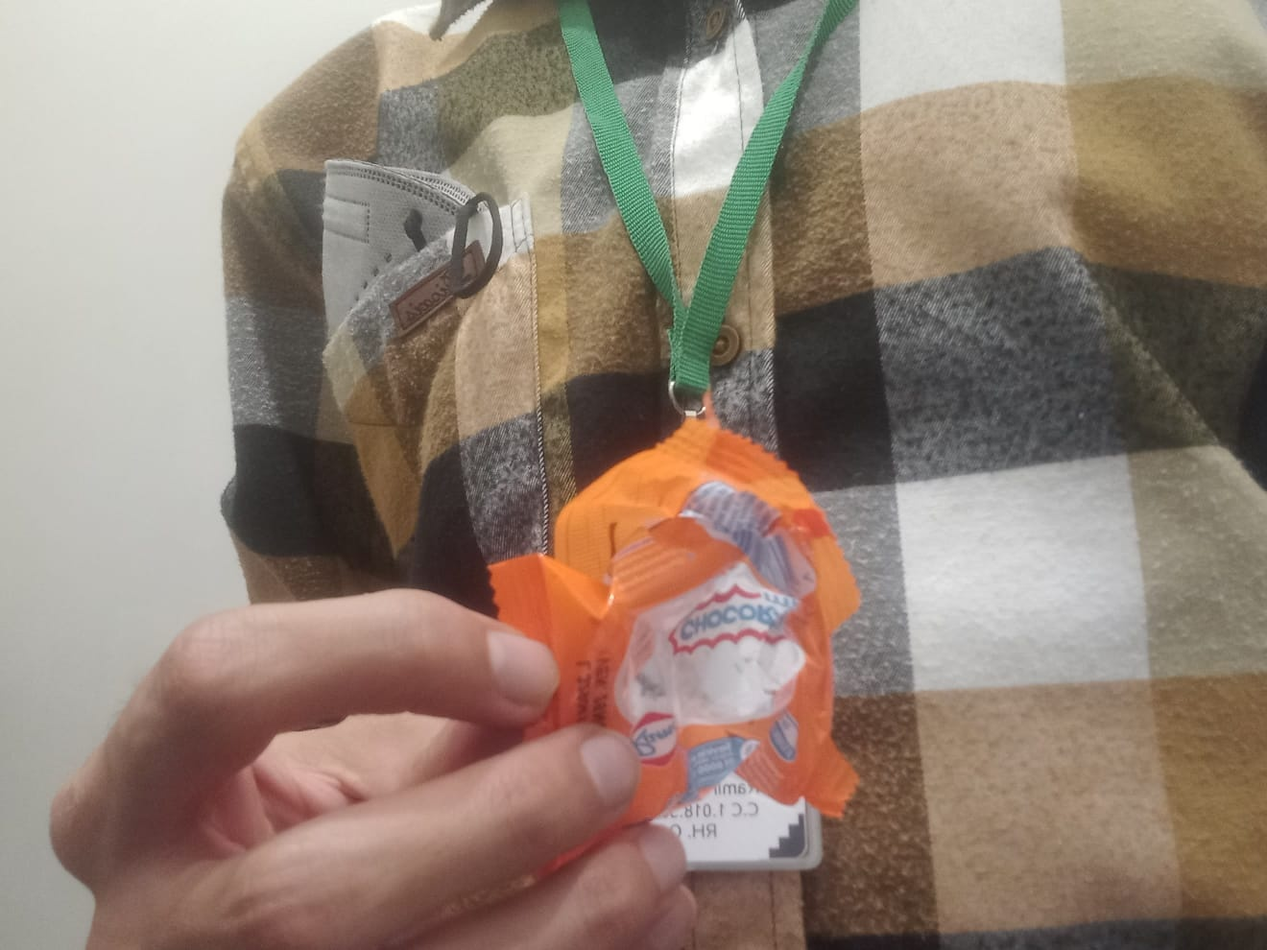Ordinario: (485, 415, 865, 815)
